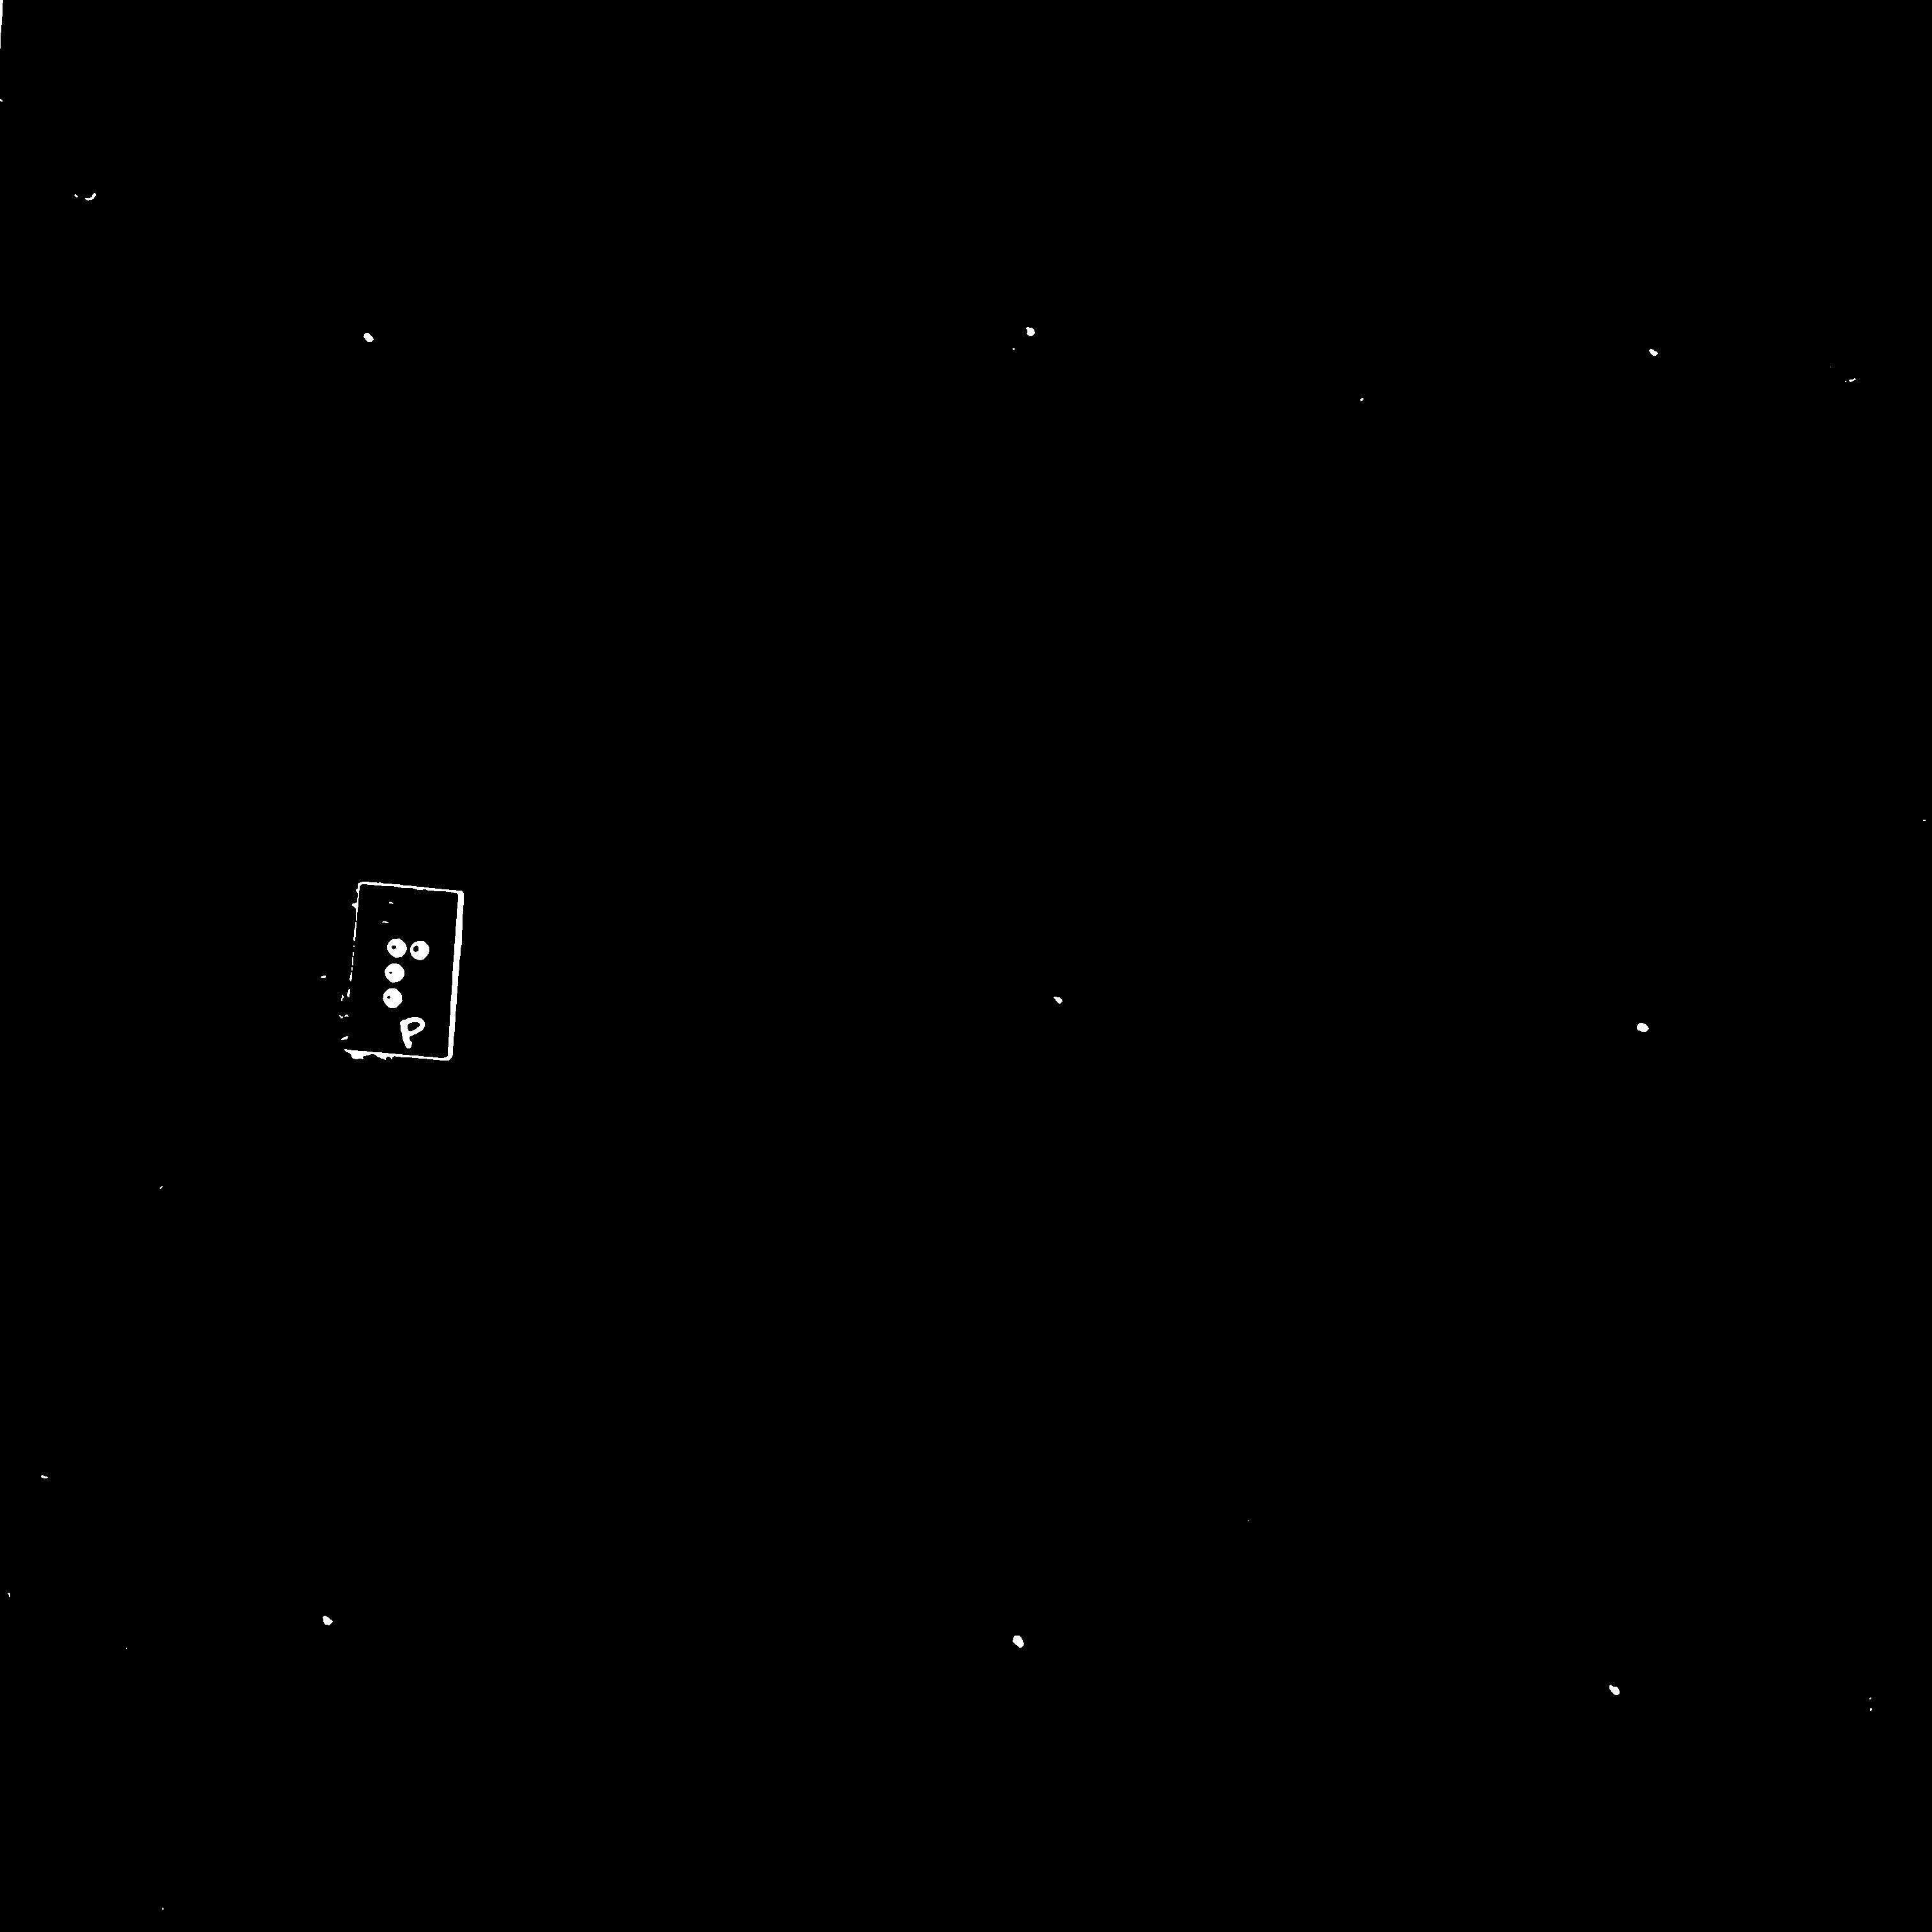p: (377, 925, 434, 1009)
